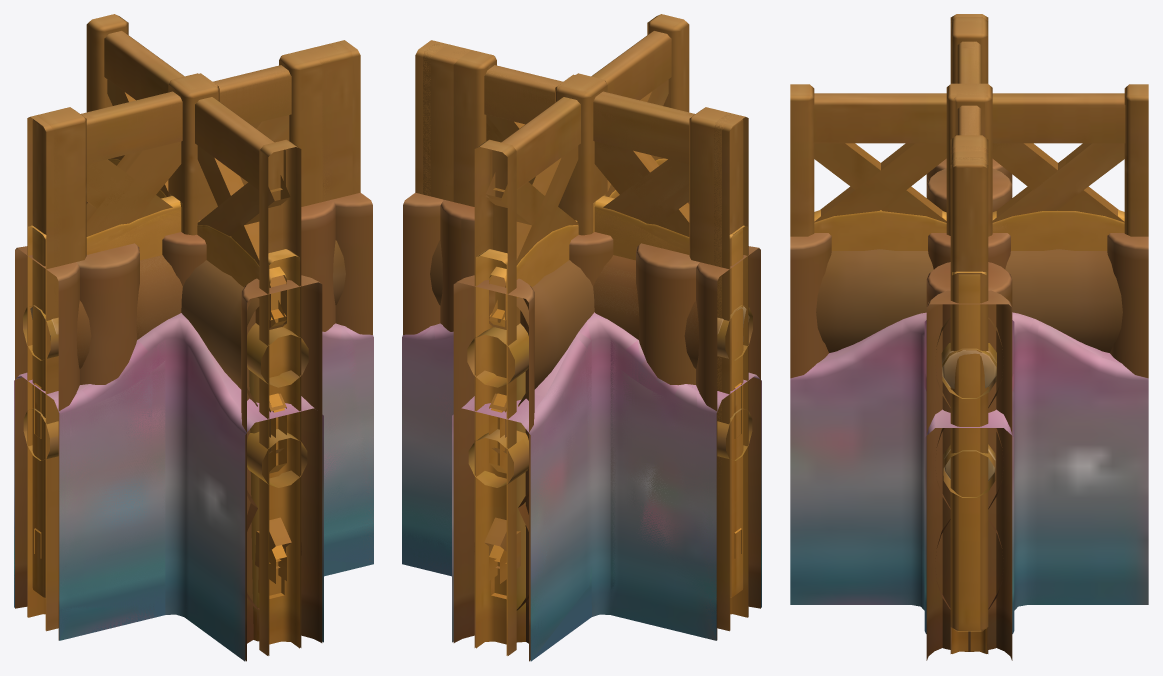
Rendered from fences-4.glb.
The picture shows the model from 3 angles, left to right: view 1: azimuth 30°, elevation 25°; view 2: azimuth 150°, elevation 25°; view 3: azimuth 270°, elevation 25°; orthographic projection.
Parts seen in each view (by area): view 1: mFenceMermaid (×5), mFenceLatticeBig (×5), mFenceLogWall (×6), mFenceLattice (×3), mFenceHorizontalLog (×2); view 2: mFenceMermaid (×5), mFenceLatticeBig (×6), mFenceLogWall (×5), mFenceLattice (×5), mFenceHorizontalLog (×3); view 3: mFenceMermaid (×5), mFenceLatticeBig (×6), mFenceLogWall (×5), mFenceLattice (×5), mFenceHorizontalLog (×2).
Boxes of the visible parts, x1=… form: mFenceMermaid (×5): x1=14, y1=313, x2=373, y2=661; mFenceLatticeBig (×5): x1=27, y1=14, x2=360, y2=655; mFenceLogWall (×6): x1=15, y1=192, x2=372, y2=661; mFenceLattice (×3): x1=28, y1=194, x2=299, y2=655; mFenceHorizontalLog (×2): x1=23, y1=305, x2=308, y2=641; mFenceMermaid (×5): x1=402, y1=312, x2=761, y2=661; mFenceLatticeBig (×6): x1=415, y1=14, x2=748, y2=655; mFenceLogWall (×5): x1=403, y1=192, x2=760, y2=661; mFenceLattice (×5): x1=476, y1=158, x2=747, y2=655; mFenceHorizontalLog (×3): x1=467, y1=305, x2=752, y2=642; mFenceMermaid (×5): x1=790, y1=312, x2=1148, y2=633; mFenceLatticeBig (×6): x1=790, y1=14, x2=1148, y2=653; mFenceLogWall (×5): x1=790, y1=168, x2=1148, y2=660; mFenceLattice (×5): x1=814, y1=210, x2=1124, y2=653; mFenceHorizontalLog (×2): x1=941, y1=343, x2=996, y2=497.
Size of the model in its own units: 10 by 15.3 by 10.
Materials: 30 (30 with a texture image).
